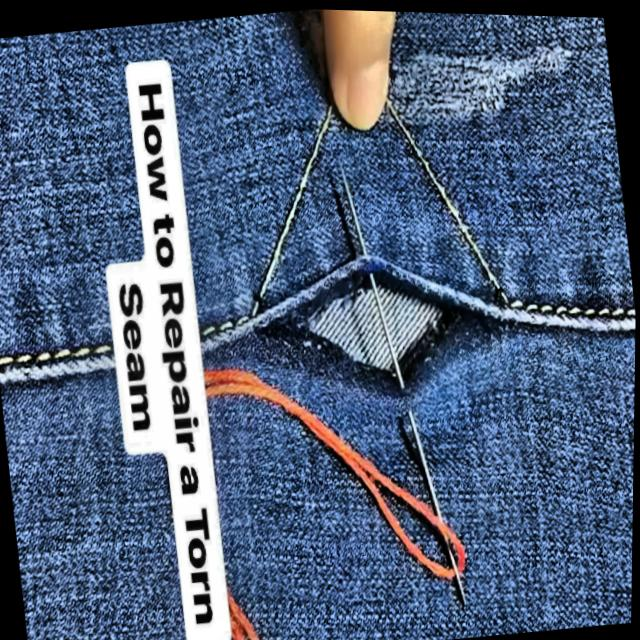seam: (246, 215, 494, 410)
